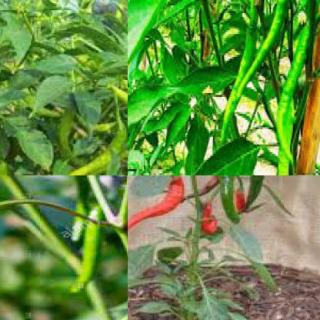green_chilli: (231, 0, 297, 115), (218, 0, 261, 151), (275, 23, 313, 135), (68, 206, 114, 292), (59, 124, 127, 174), (59, 175, 93, 240), (212, 176, 243, 227), (239, 176, 275, 212), (280, 102, 295, 175), (109, 84, 127, 124)
